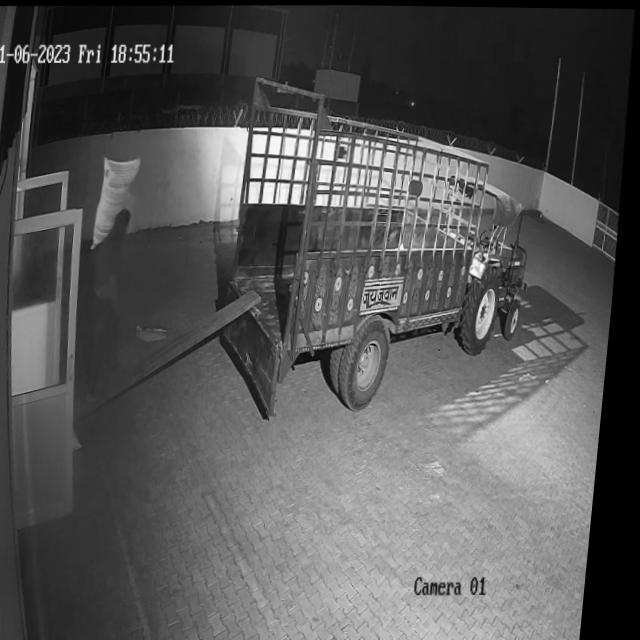sack: (95, 156, 145, 251)
